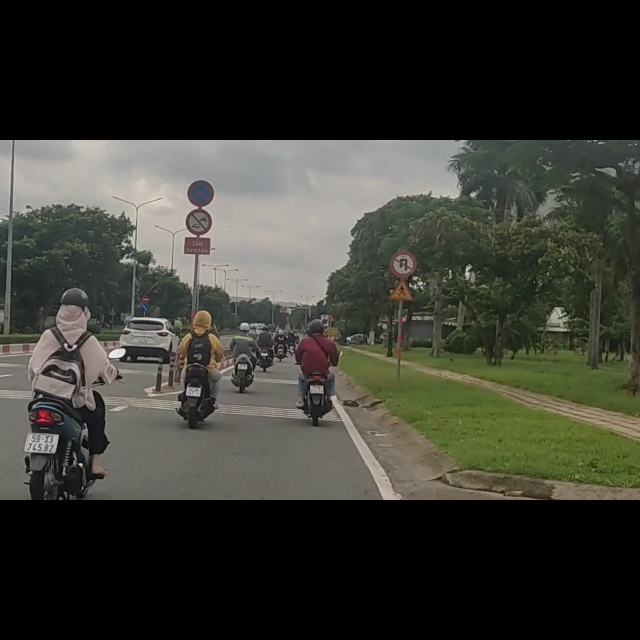bien_nguy_hiem: (185, 121, 213, 171), (389, 198, 417, 243), (188, 70, 214, 117), (389, 247, 414, 287), (141, 290, 149, 306), (141, 275, 149, 289)
